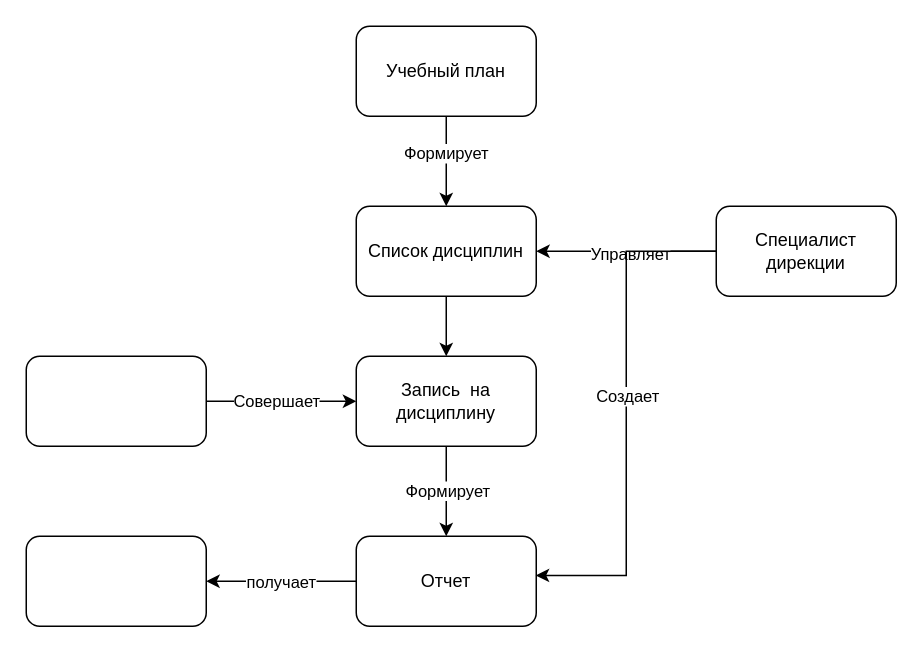
Image size: 923x653. Some labels were removed from this diagram. The box of each missing label's shape, as (x1, y1, x2, y2) in pixels:
Преподаватель: (25, 535, 206, 626)
Студент: (25, 355, 206, 446)
